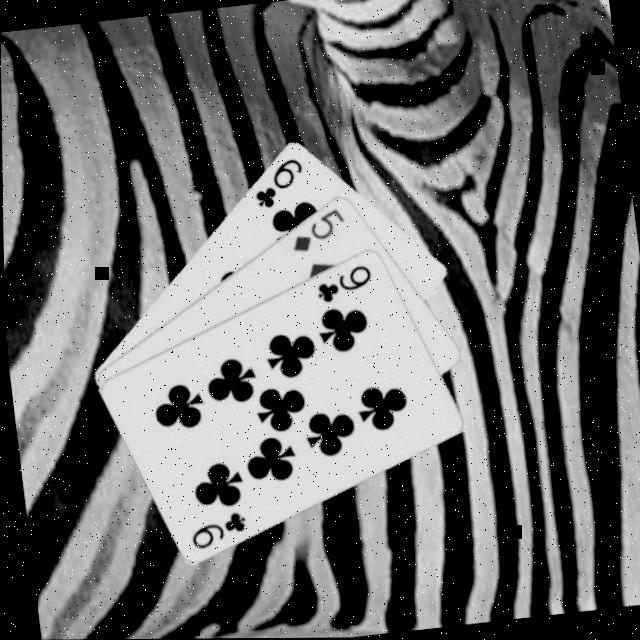5D: (286, 206, 352, 256)
6C: (248, 154, 310, 214)
9C: (185, 508, 252, 554), (312, 262, 378, 308)
